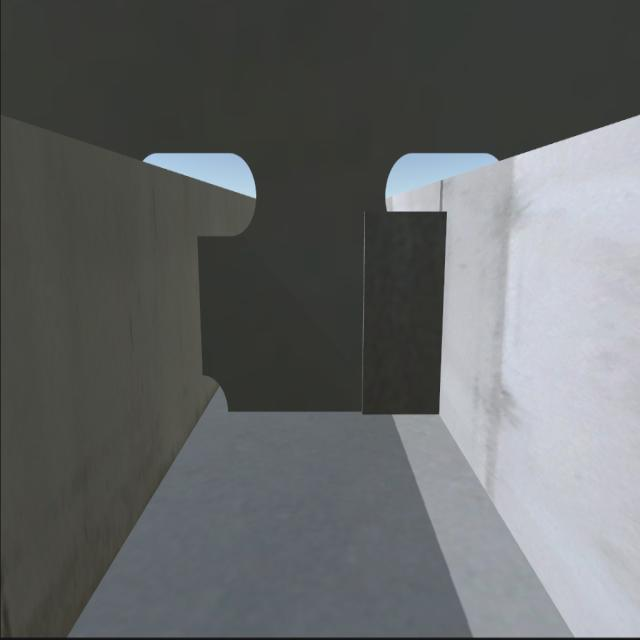fillet_hole: (198, 372, 232, 416)
fillet_yong_jeop_jang: (235, 407, 441, 421)
longi_yong_jeop_jang: (438, 211, 455, 415)
plate_CP01: (362, 204, 447, 410)
